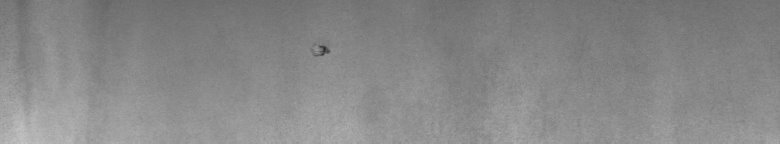fi: (310, 36, 335, 64)
